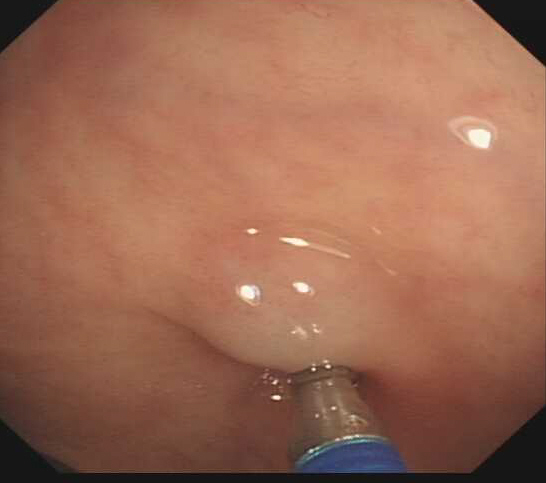adenoma: (169, 222, 422, 379)
